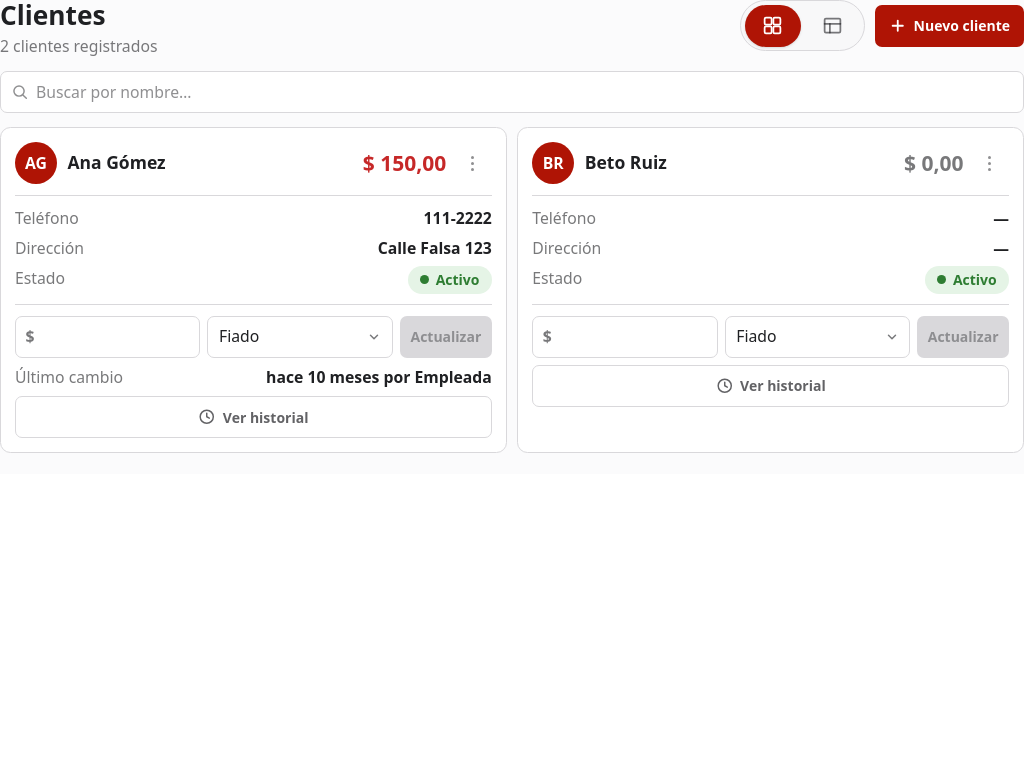
CustomersPage › edits an existing customer after confirmation
Step 1. Click the button named "Acciones para Ana Gómez" → (473, 163), box [453,144,492,182]
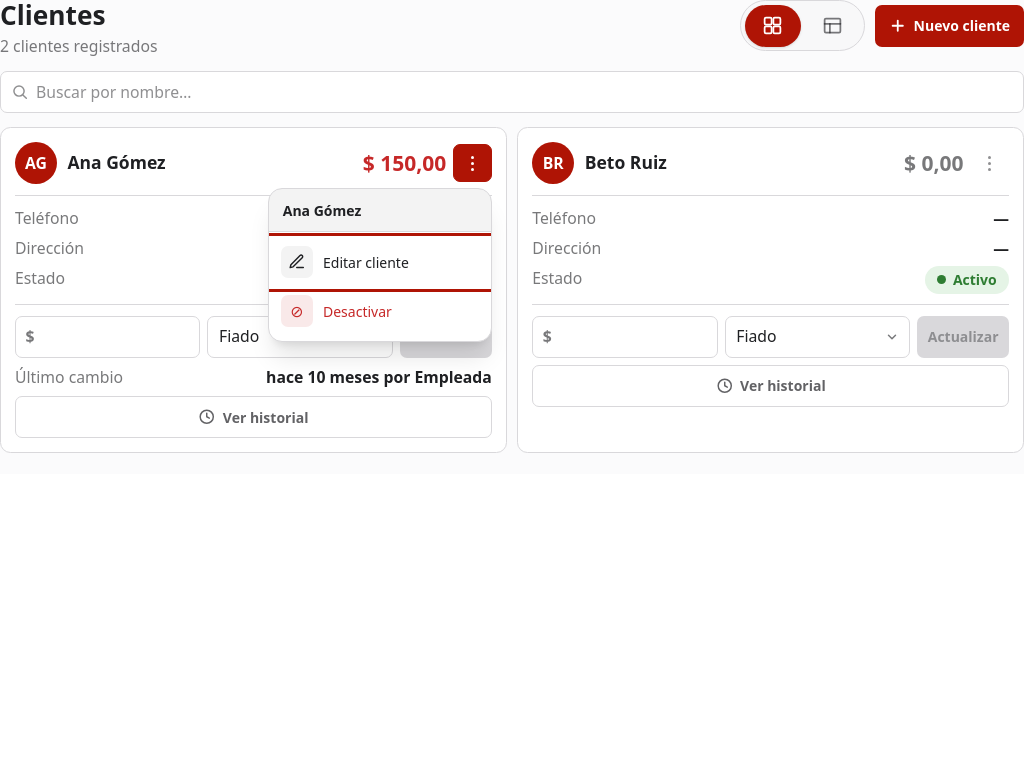
Step 2. Click the button "Editar cliente" → (380, 262), box [269,238,491,286]
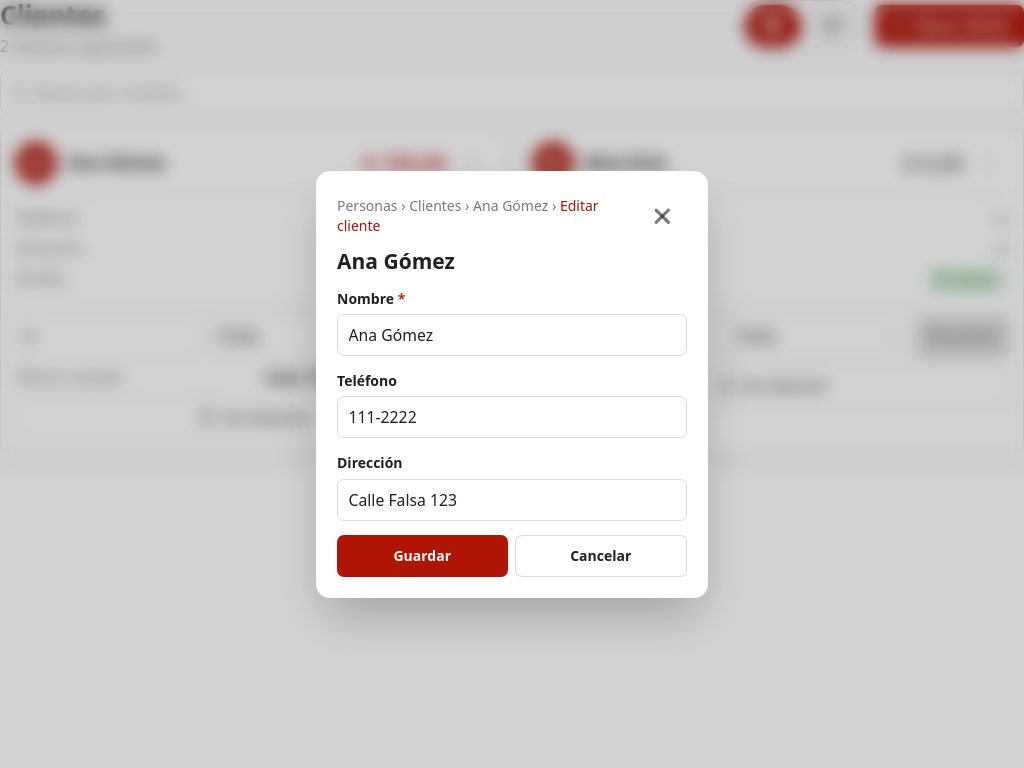
Step 3. Replace the text in the field labelled "Nombre *" with "Ana Gómez López" → (512, 335), box [337,314,687,356]
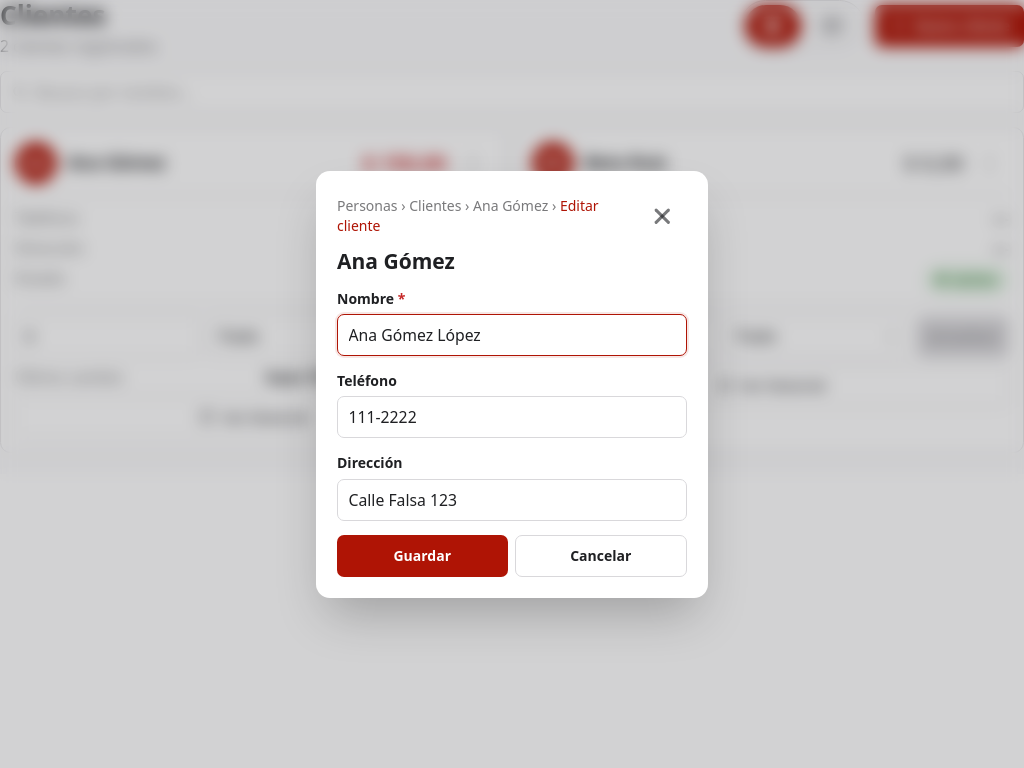
Step 4. Click the button "Guardar" → (422, 556), box [337,534,508,576]
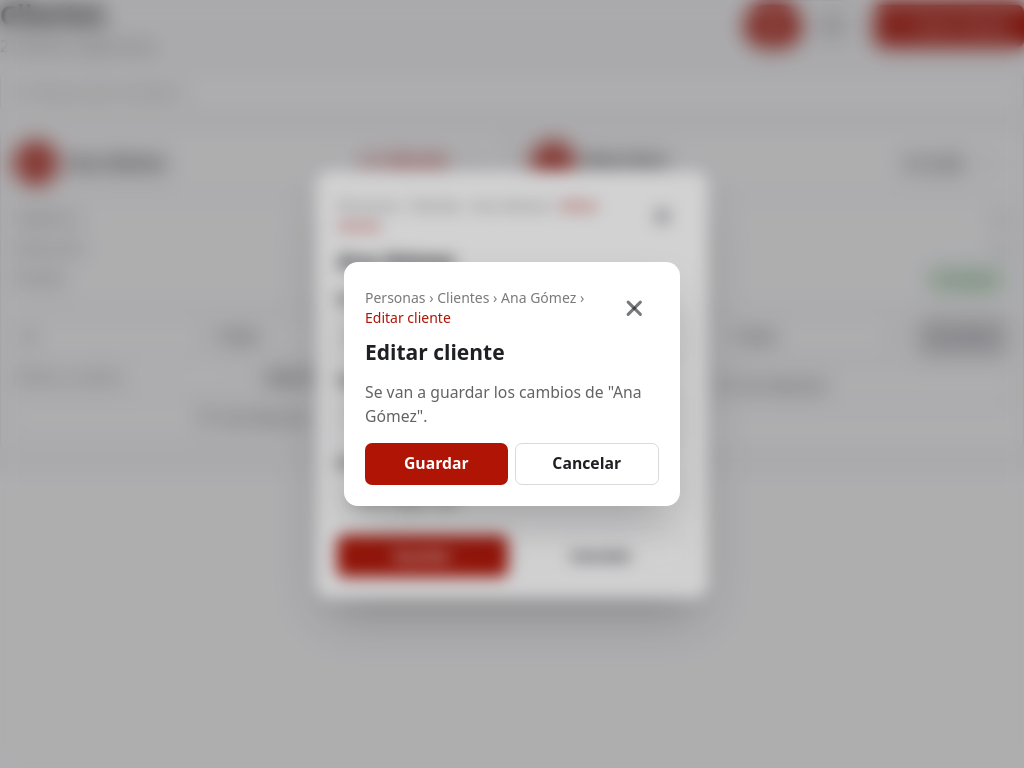
Step 5. Click the button "Guardar" → (436, 464), box [365,443,508,485]
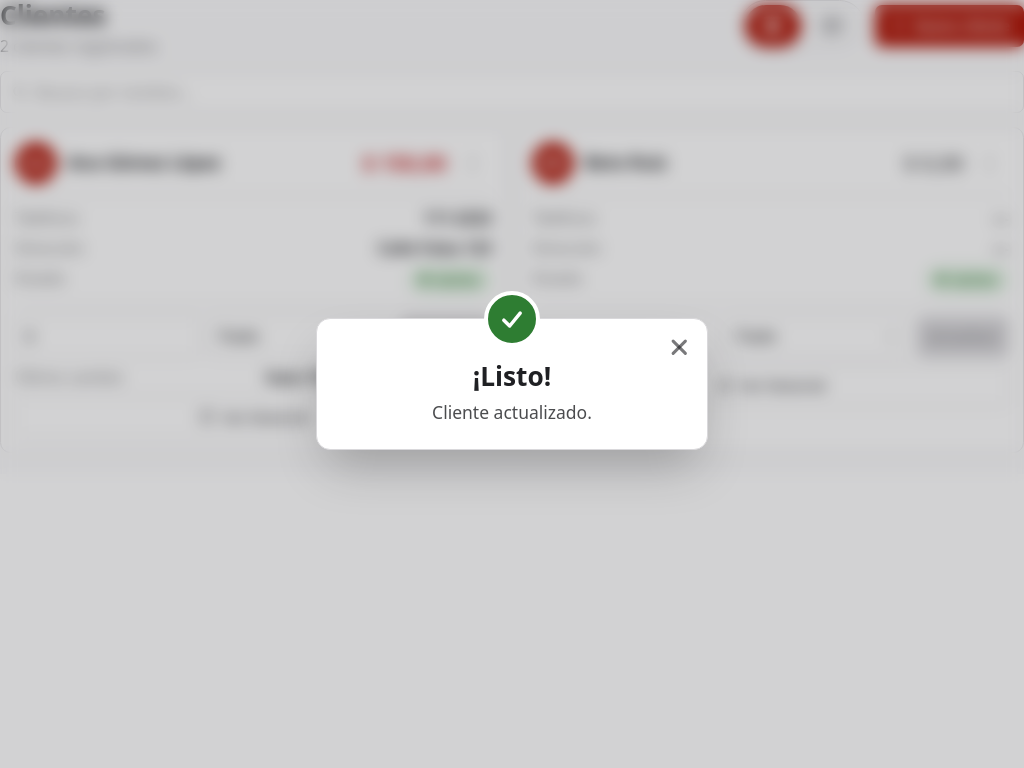
Result: the text "Ana Gómez López" is shown at [68,150,221,174]
